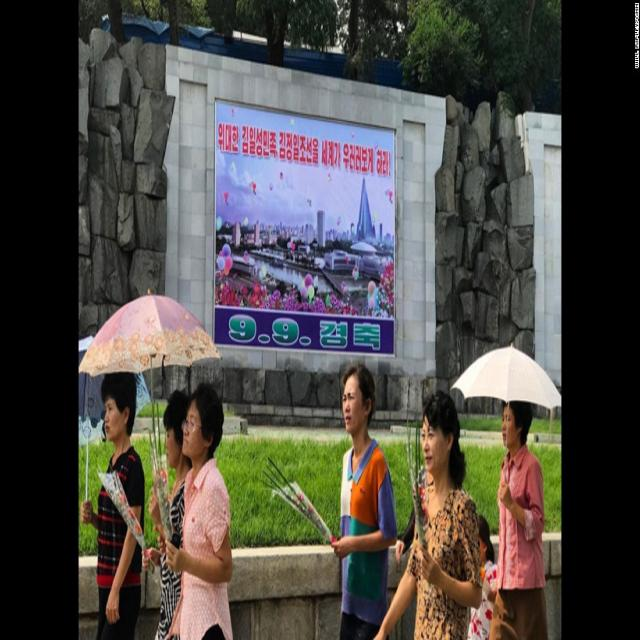body: (373, 389, 484, 640), (152, 380, 234, 640), (329, 359, 401, 639), (78, 370, 148, 640), (488, 398, 548, 640), (141, 387, 193, 640), (393, 382, 430, 568), (466, 513, 499, 640)
